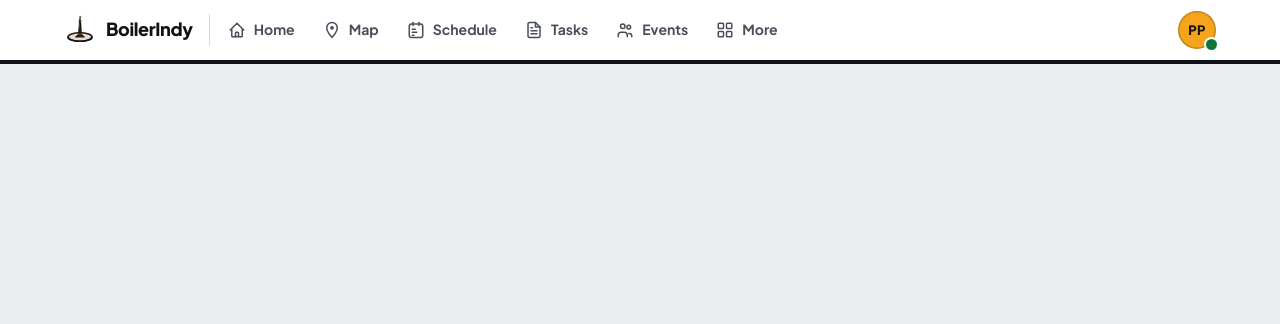
Test: Navbar › the profile menu has no advertiser entry
Click the button with aria-label "PP, account menu for Pete Purdue": (1197,30) [1178, 11, 1216, 49]
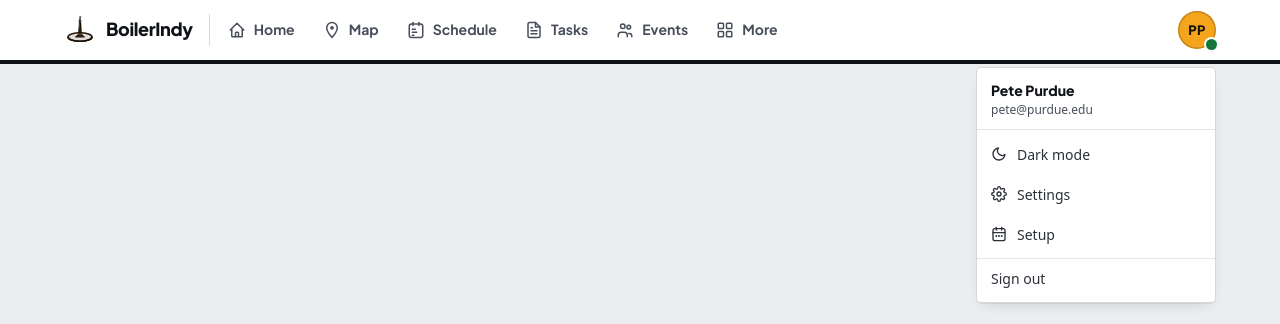
expect the menu items read "Dark mode", "Settings", "Setup", "Sign out", in this order: met, box [977, 134, 1215, 174]; [991, 184, 1070, 204]; [991, 224, 1055, 244]; [977, 258, 1215, 298]
